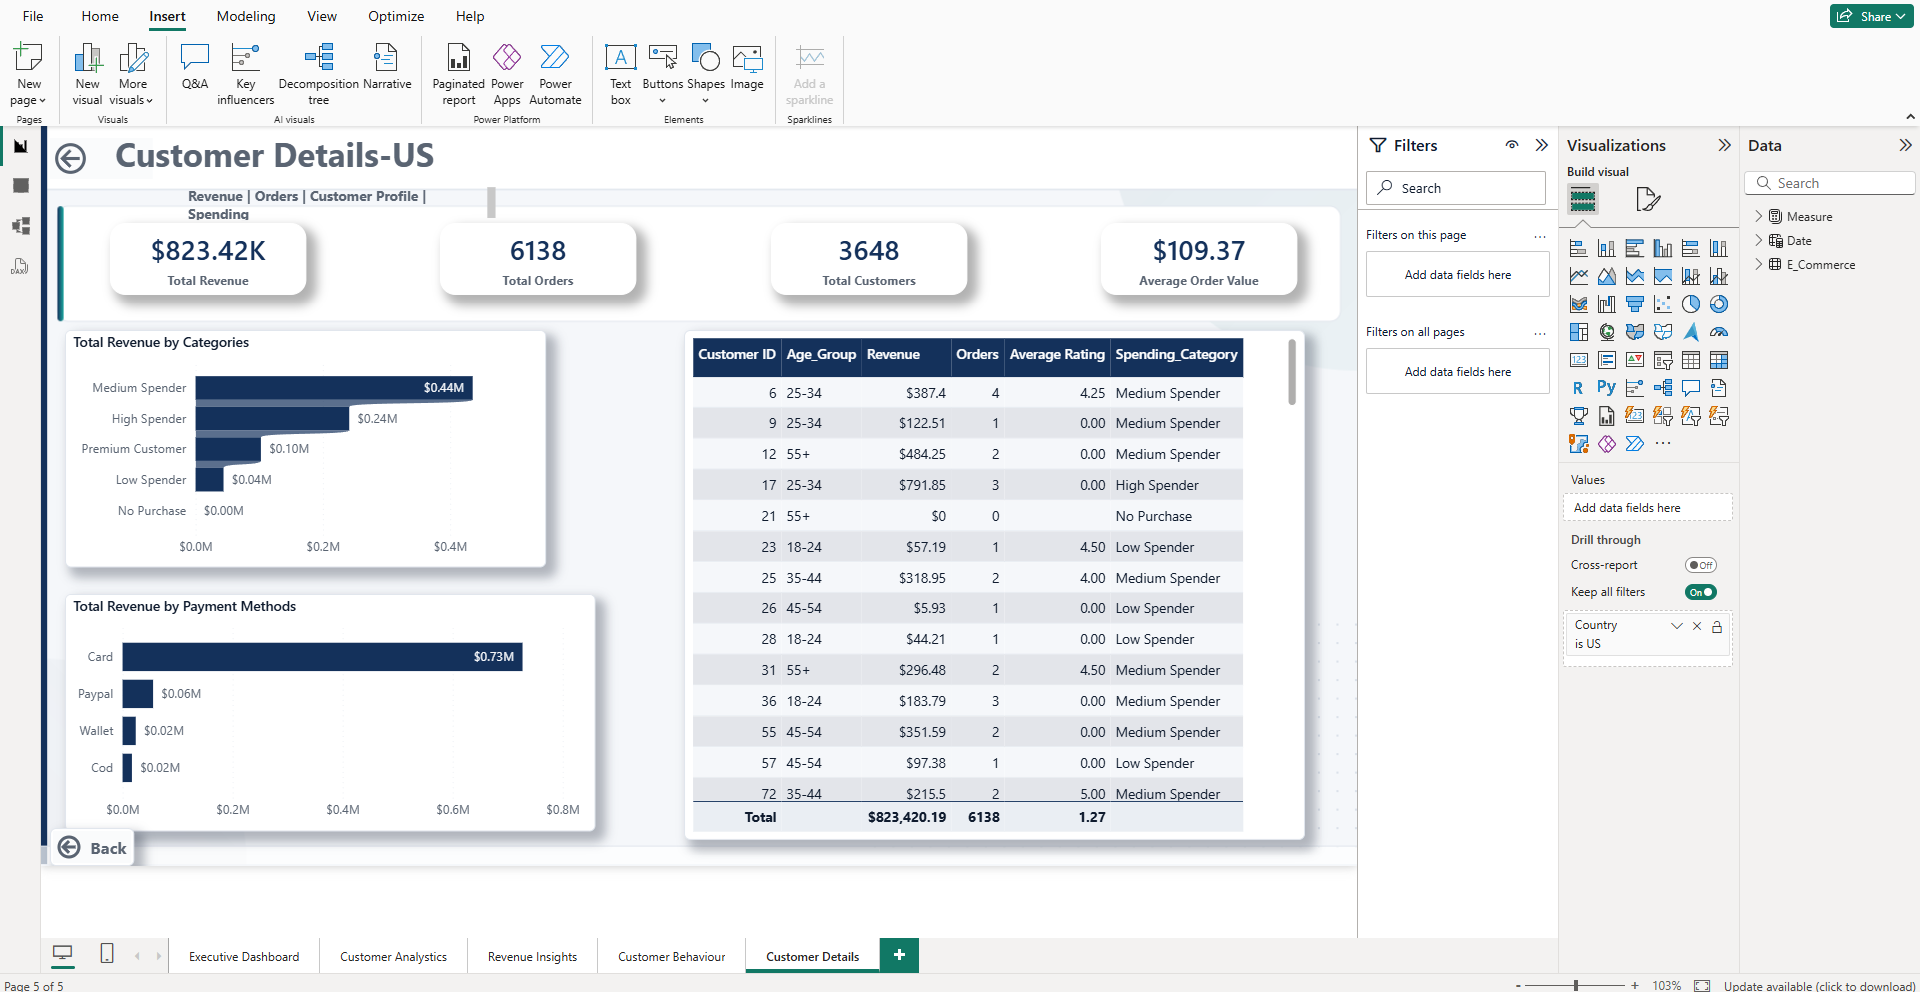

This screenshot's page, from the dashboard's own definition file:
{"tool":"powerbi","page":{"name":"Customer Details","canvas":[1280,720],"ordinal":4},"visuals":[{"type":"actionButton","box":[8.8,11.7,100.2,39.9],"z":0},{"type":"card","fields":{"Values":["Measure.Total Revenue"]},"box":[67.1,94.3,190.6,70],"z":1000},{"type":"card","fields":{"Values":["Measure.Total Orders"]},"box":[388.4,94.3,190.6,70],"z":2000},{"type":"card","fields":{"Values":["Measure.Total Customers"]},"box":[709.7,94.3,190.6,70],"z":3000},{"type":"card","fields":{"Values":["Measure.Average Order Value"]},"box":[1031,94.3,190.6,70],"z":4000},{"type":"barChart","title":"Total Revenue by Categories","fields":{"Y":["Measure.Total Revenue"],"Category":["E_Commerce.Spending_Category"]},"box":[23.3,198.4,467.8,231.5],"z":5000},{"type":"barChart","title":"Total Revenue by Payment Methods","fields":{"Category":["E_Commerce.Preferred_Payment"],"Y":["Measure.Total Revenue"]},"box":[23.3,455.2,516.5,230.5],"z":6000},{"type":"tableEx","fields":{"Values":["E_Commerce.Customer_Id","E_Commerce.Age_Group","Measure.Total Revenue","Measure.Total Orders","Measure.Average Rating","E_Commerce.Spending_Category"]},"box":[625.4,198.4,604,496],"z":7000},{"type":"textbox","box":[67.1,0,511.6,63.2],"z":8000},{"type":"textbox","box":[138.1,54.5,309.3,41.8],"z":9000},{"type":"actionButton","box":[8.8,682.8,81.7,37],"z":9001}]}

Visuals, with their boxes on the page's 1280x720 design canvas (x1, y1, x2, y2). These are canvas units, not pixel positions in the 1920x992 screenshot, which may show the page scaled, cropped or inside an application window:
actionButton: <region>9, 12, 109, 52</region>
card - Measure.Total Revenue: <region>67, 94, 258, 164</region>
card - Measure.Total Orders: <region>388, 94, 579, 164</region>
card - Measure.Total Customers: <region>710, 94, 900, 164</region>
card - Measure.Average Order Value: <region>1031, 94, 1222, 164</region>
"Total Revenue by Categories" barChart: <region>23, 198, 491, 430</region>
"Total Revenue by Payment Methods" barChart: <region>23, 455, 540, 686</region>
tableEx - E_Commerce.Customer_Id x E_Commerce.Age_Group: <region>625, 198, 1229, 694</region>
textbox: <region>67, 0, 579, 63</region>
textbox: <region>138, 54, 447, 96</region>
actionButton: <region>9, 683, 90, 720</region>
